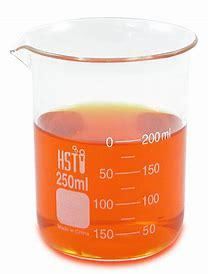Beaker: (7, 31, 176, 270)
